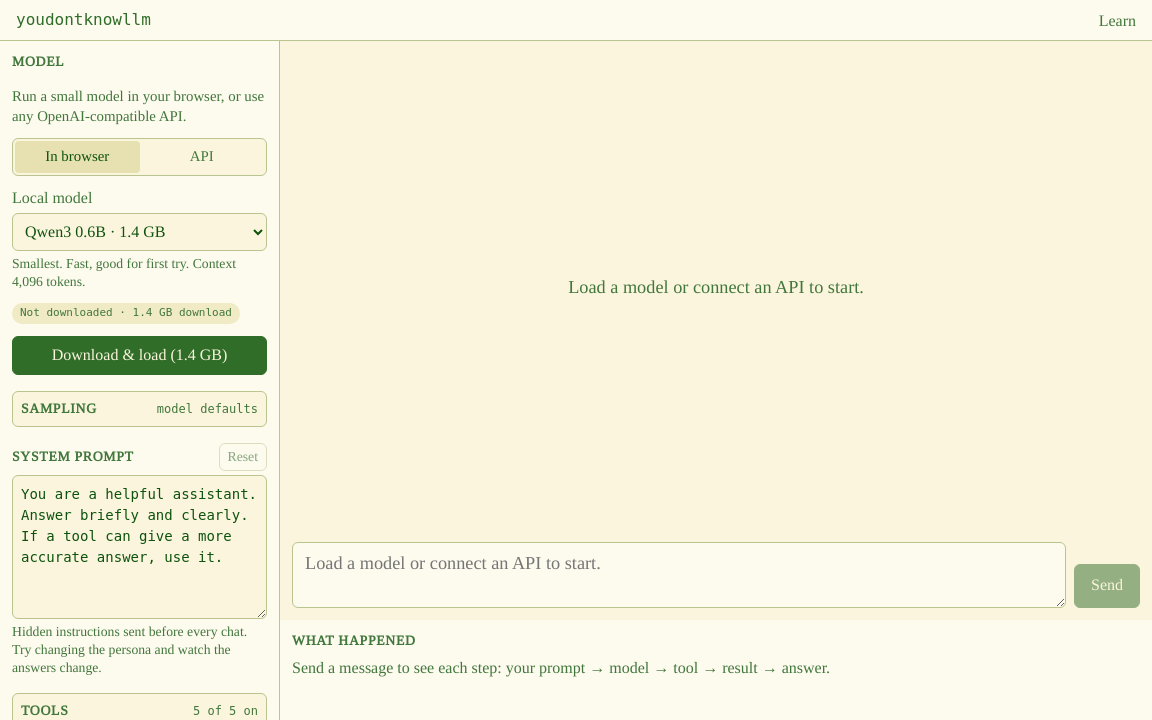
it: load marks the model downloaded; deleting the loaded model unloads it first
The width and height of the screenshot is (1152, 720).
Click the button "Download & load (1.4 GB)". click: (140, 355)
box: [12,336,267,374]
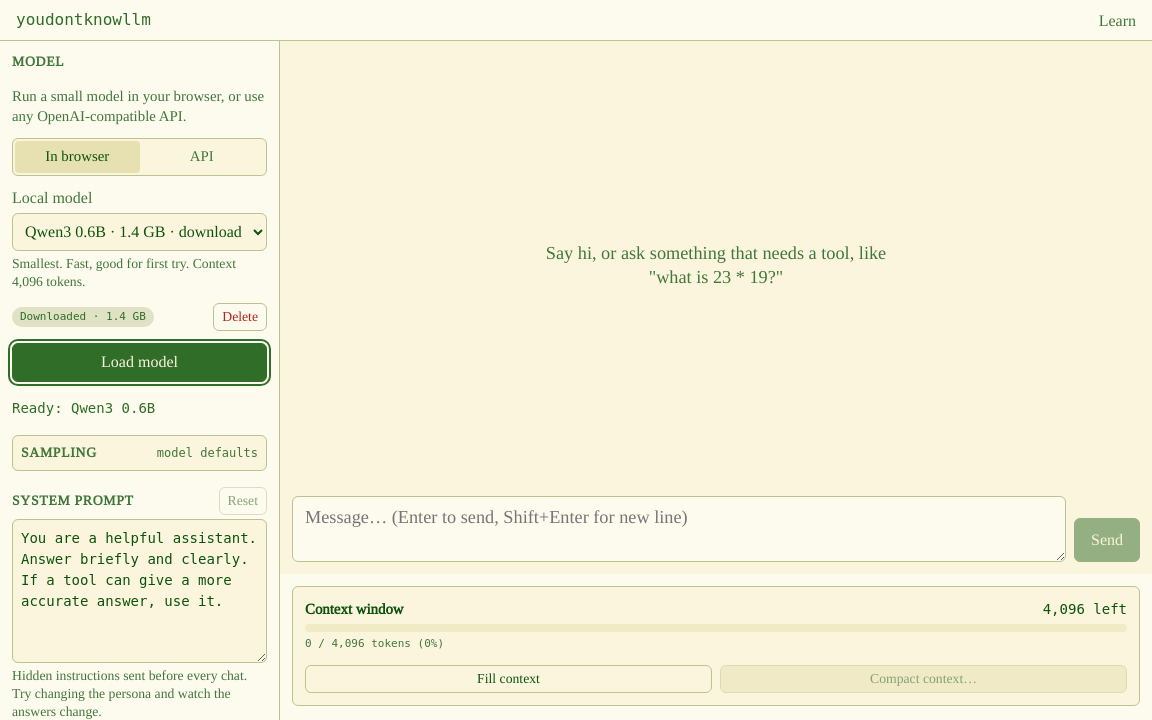
Expected: the text "Downloaded · 1.4 GB" is shown, [12,307,154,327]
Click the button with aria-label "Delete Qwen3 0.6B from this browser". click: (240, 317)
box: [213,303,267,331]
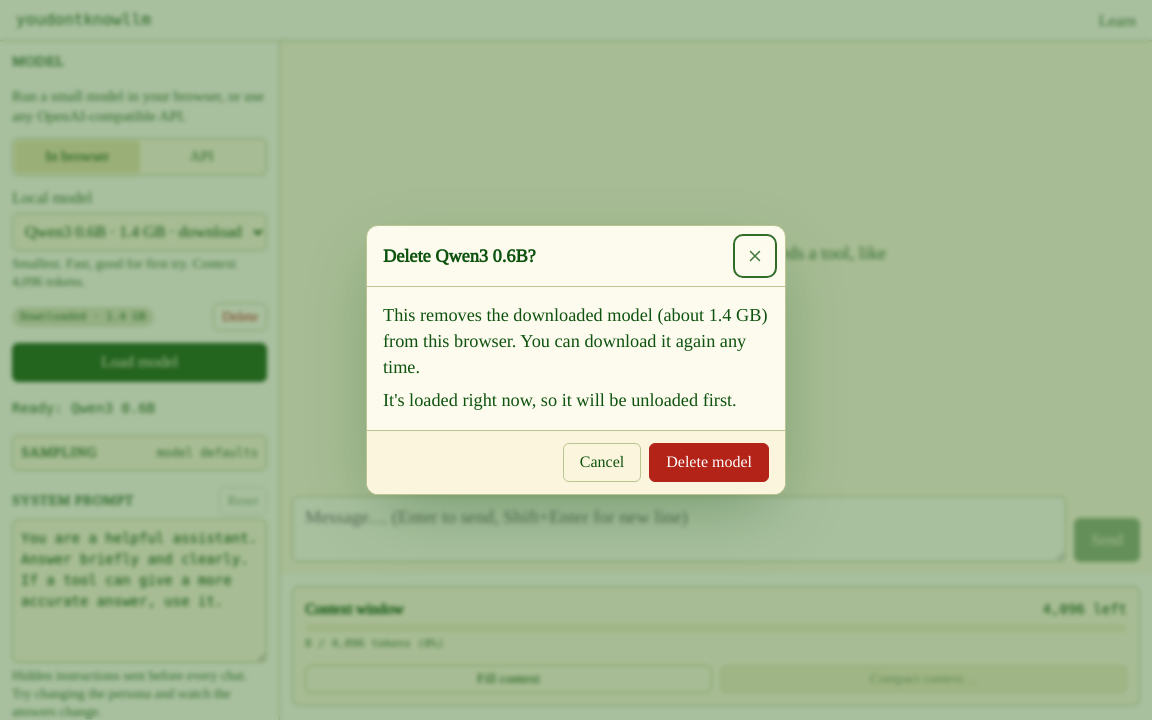
Click the button "Delete model". click: (709, 462)
box: [649,443,769,482]
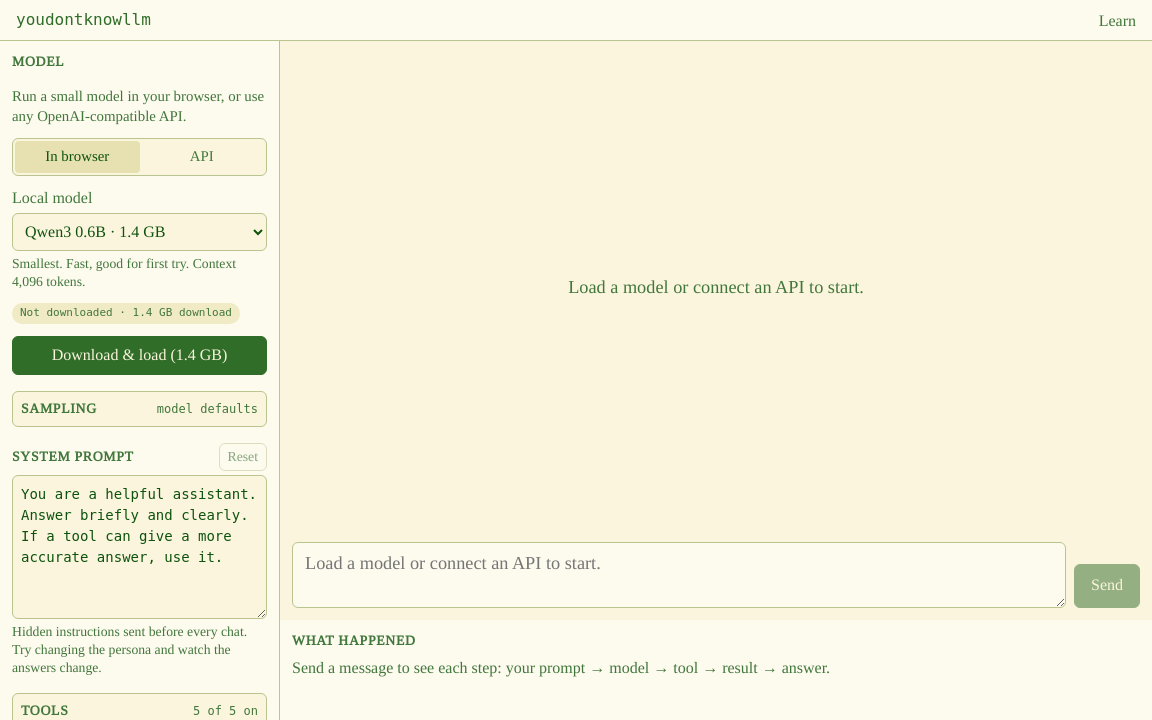
Expected: the text "Not downloaded · 1.4 GB download" is shown, [12,303,240,324]
Expected: the text box named "Message" is disabled, [292,542,1066,608]
